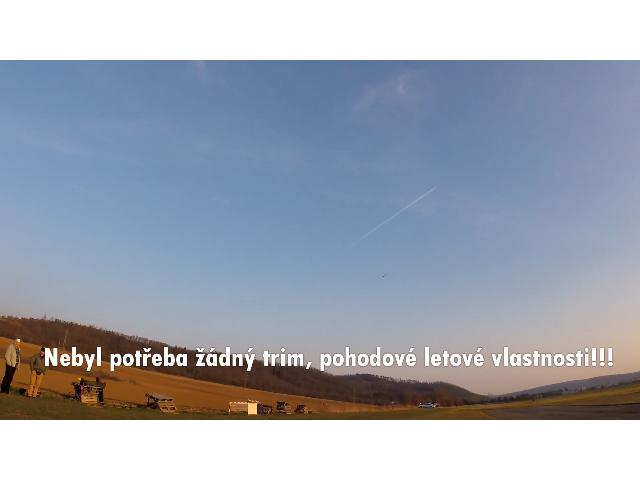Anti-Drone: (374, 270, 390, 282)
